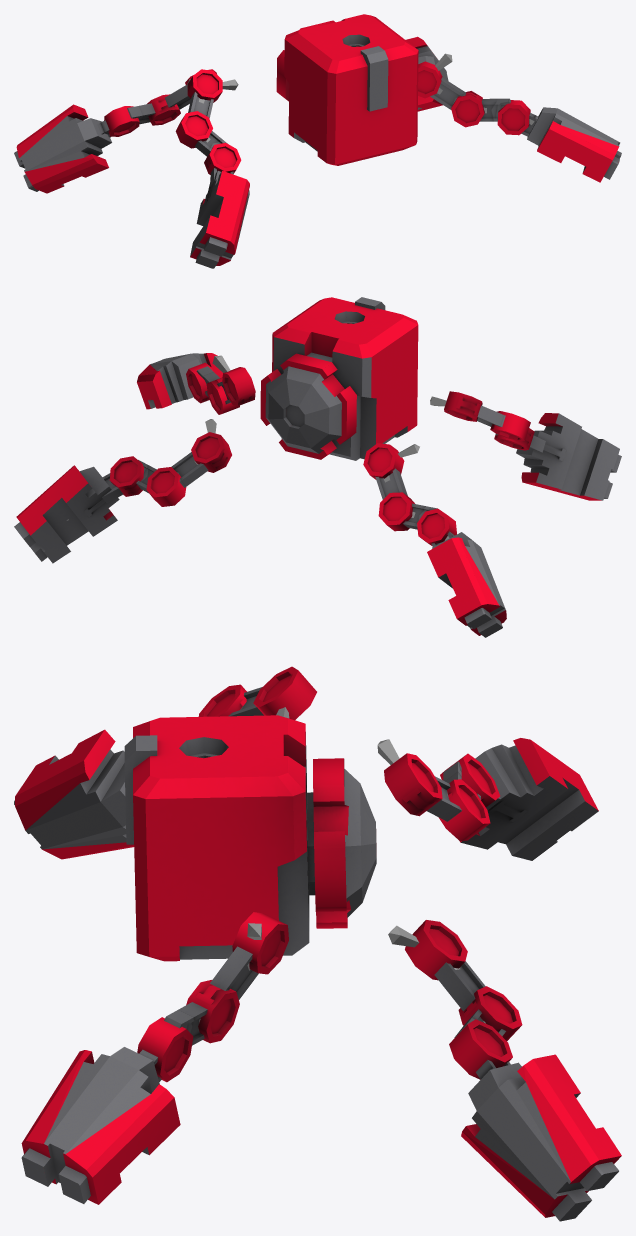
File: Monster1_Die2.obj
The picture shows the model from 3 angles, top to bottom: view 1: azimuth 30°, elevation 25°; view 2: azimuth 150°, elevation 25°; view 3: azimuth 270°, elevation 25°; orthographic projection. The views are drawn at different scales.
Parts seen in each view (by area): view 1: Box006, Object025, Object017, Object021, Object019, Object023, Object018, Object022, Object020, Object027, Object024, Object028 (+2 smaller); view 2: Box006, Object021, Object013, Object025, Object017, Object014, Object026, Object015, Object027, Object016, Object022, Object028 (+5 smaller); view 3: Box006, Object013, Object017, Object021, Object025, Object014, Object018, Object026, Object019, Object022, Object016, Object020 (+4 smaller).
Boxes of the visible parts, bbox=[...] form: Box006: bbox=[276, 14, 418, 165]; Object025: bbox=[14, 104, 111, 193]; Object017: bbox=[527, 107, 621, 182]; Object021: bbox=[190, 170, 249, 268]; Object019: bbox=[451, 91, 510, 127]; Object023: bbox=[175, 111, 227, 156]; Object018: bbox=[418, 61, 465, 109]; Object022: bbox=[187, 69, 222, 118]; Object020: bbox=[497, 100, 538, 136]; Object027: bbox=[127, 94, 180, 125]; Object024: bbox=[204, 142, 241, 186]; Object028: bbox=[97, 106, 139, 137]; Box006: bbox=[260, 297, 418, 460]; Object021: bbox=[516, 413, 621, 500]; Object013: bbox=[14, 465, 119, 563]; Object025: bbox=[427, 532, 506, 637]; Object017: bbox=[137, 353, 222, 409]; Object014: bbox=[171, 432, 231, 487]; Object026: bbox=[363, 443, 407, 499]; Object015: bbox=[136, 460, 186, 506]; Object027: bbox=[378, 492, 437, 531]; Object016: bbox=[102, 456, 144, 503]; Object022: bbox=[444, 391, 505, 426]; Object028: bbox=[417, 508, 456, 546]; Box006: bbox=[124, 715, 376, 961]; Object013: bbox=[461, 1054, 621, 1221]; Object017: bbox=[21, 1047, 180, 1204]; Object021: bbox=[14, 729, 134, 859]; Object025: bbox=[460, 738, 598, 860]; Object014: bbox=[405, 920, 485, 1011]; Object018: bbox=[210, 912, 288, 999]; Object026: bbox=[384, 753, 461, 821]; Object019: bbox=[164, 980, 239, 1045]; Object022: bbox=[228, 666, 316, 719]; Object016: bbox=[449, 1019, 512, 1079]; Object020: bbox=[137, 1017, 193, 1082].
Size of the model in its own units: 272 by 107 by 178.
